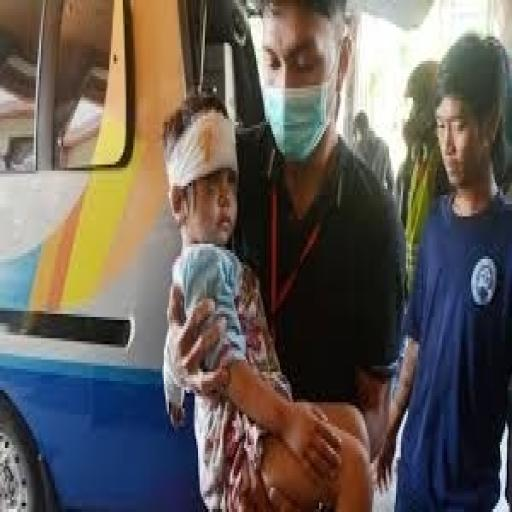hugging: (160, 0, 408, 509), (374, 30, 510, 509)
